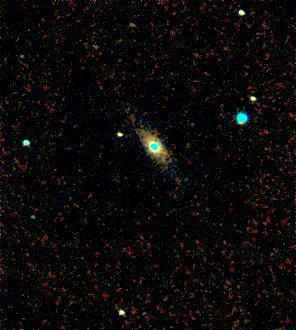star: (156, 142, 186, 172)
